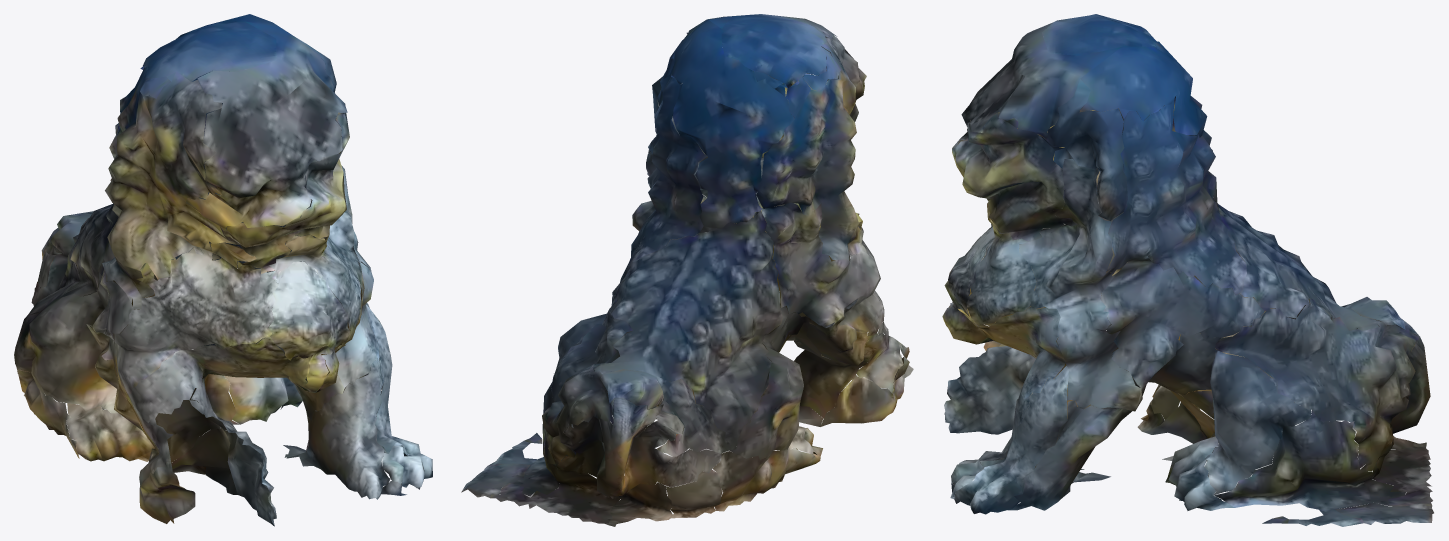
File: debug-cub.glb
The picture shows the model from 3 angles, left to right: view 1: azimuth 30°, elevation 25°; view 2: azimuth 150°, elevation 25°; view 3: azimuth 270°, elevation 25°; orthographic projection. The views are drawn at different scales.
Visible parts, largest first — view 1: LionCub; view 2: LionCub; view 3: LionCub.
Part boxes in pixels (<box>): LionCub: <box>14,14,432,526</box>; LionCub: <box>461,14,913,526</box>; LionCub: <box>942,14,1433,526</box>.
Bounding box in the file's own units: 0.0946 × 0.1357 × 0.1439.
Materials: 1 (1 with a texture image).
